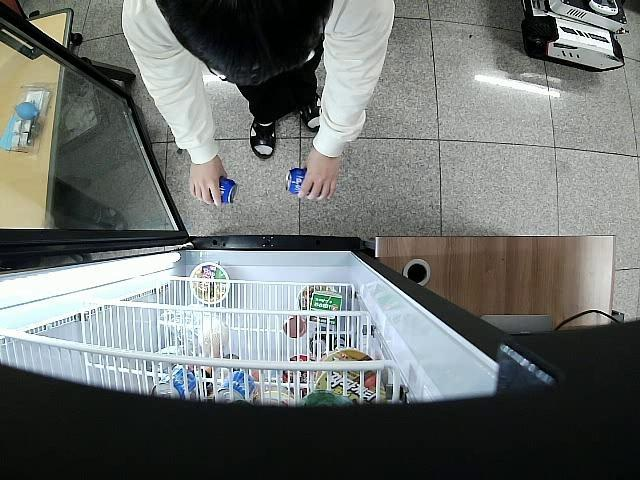13_pocariSweat: (208, 174, 238, 207), (284, 168, 308, 193)
